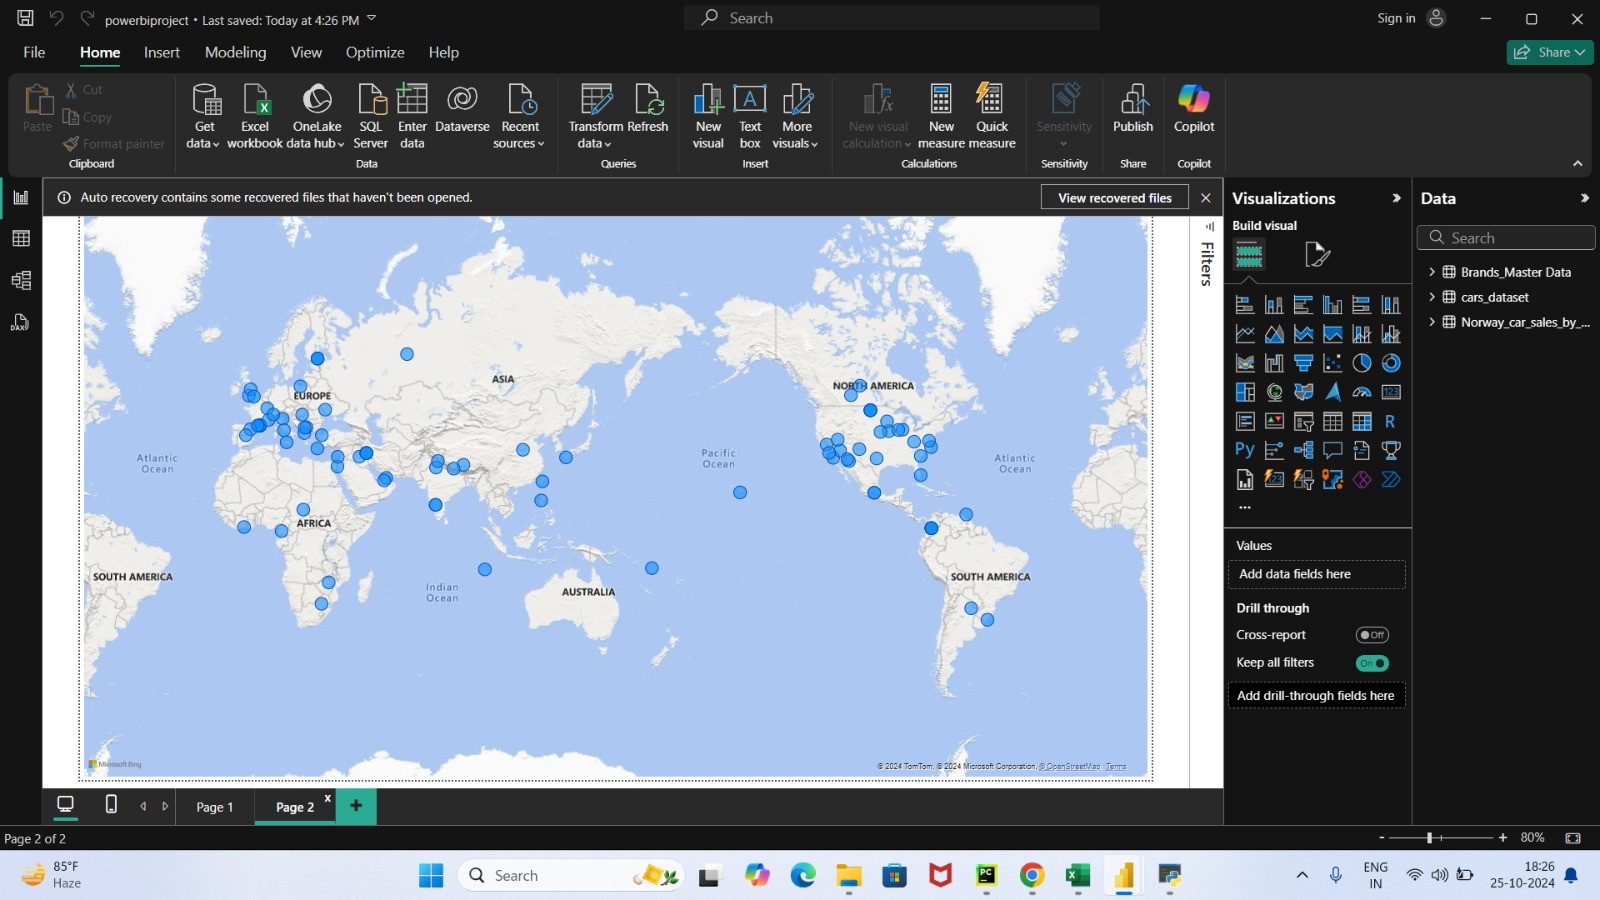

This screenshot's page, from the dashboard's own definition file:
{"tool":"powerbi","page":{"name":"Page 2","canvas":[1280,720],"ordinal":1},"visuals":[{"type":"map","fields":{"Category":["cars_dataset.model"]},"box":[0,0,1280,720.3],"z":0}]}

Visuals, with their boxes on the page's 1280x720 design canvas (x1, y1, x2, y2). These are canvas units, not pixel positions in the 1600x900 screenshot, which may show the page scaled, cropped or inside an application window:
map - cars_dataset.model: (x1=0, y1=0, x2=1280, y2=720)
